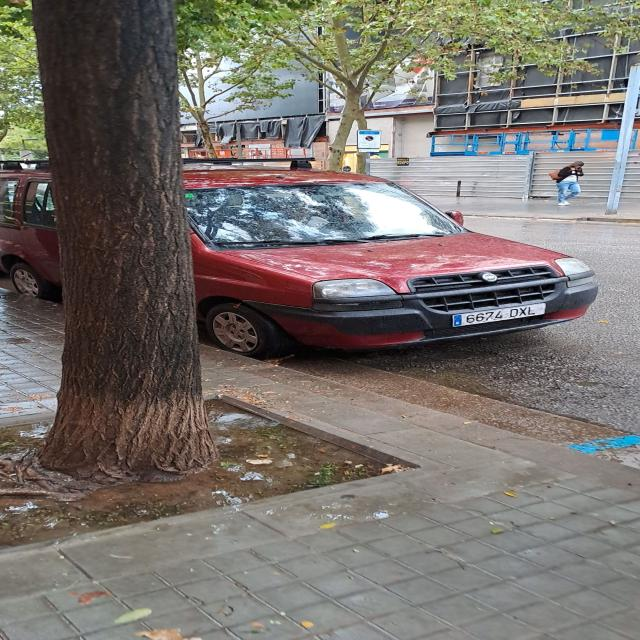license_plate-34Td: (453, 303, 545, 327)
